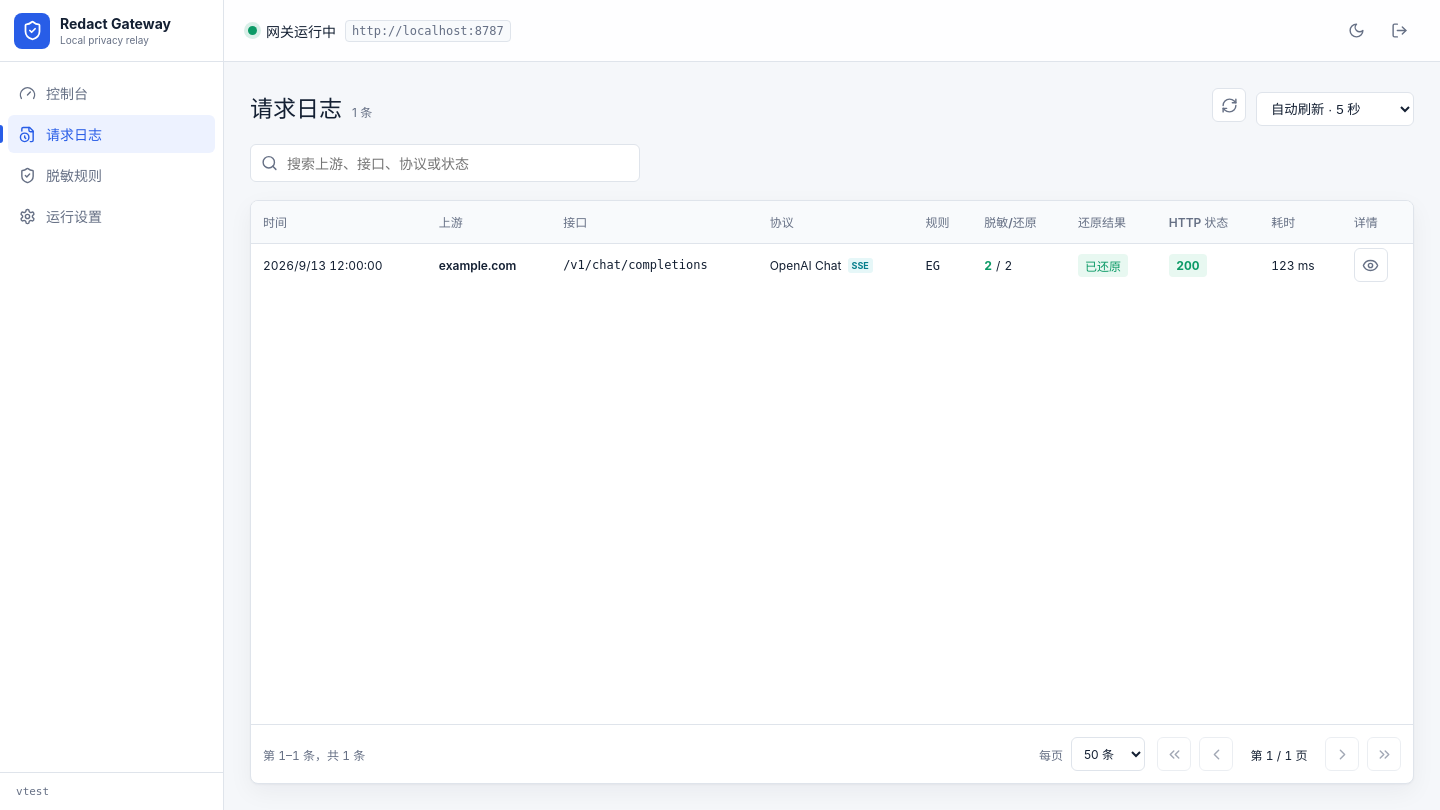
App › opens the selected request with actual rule hits and field paths
The image size is (1440, 810).
Click the button named "查看请求 request-one 的详情" at (1371, 265), box [1354,248,1388,282]
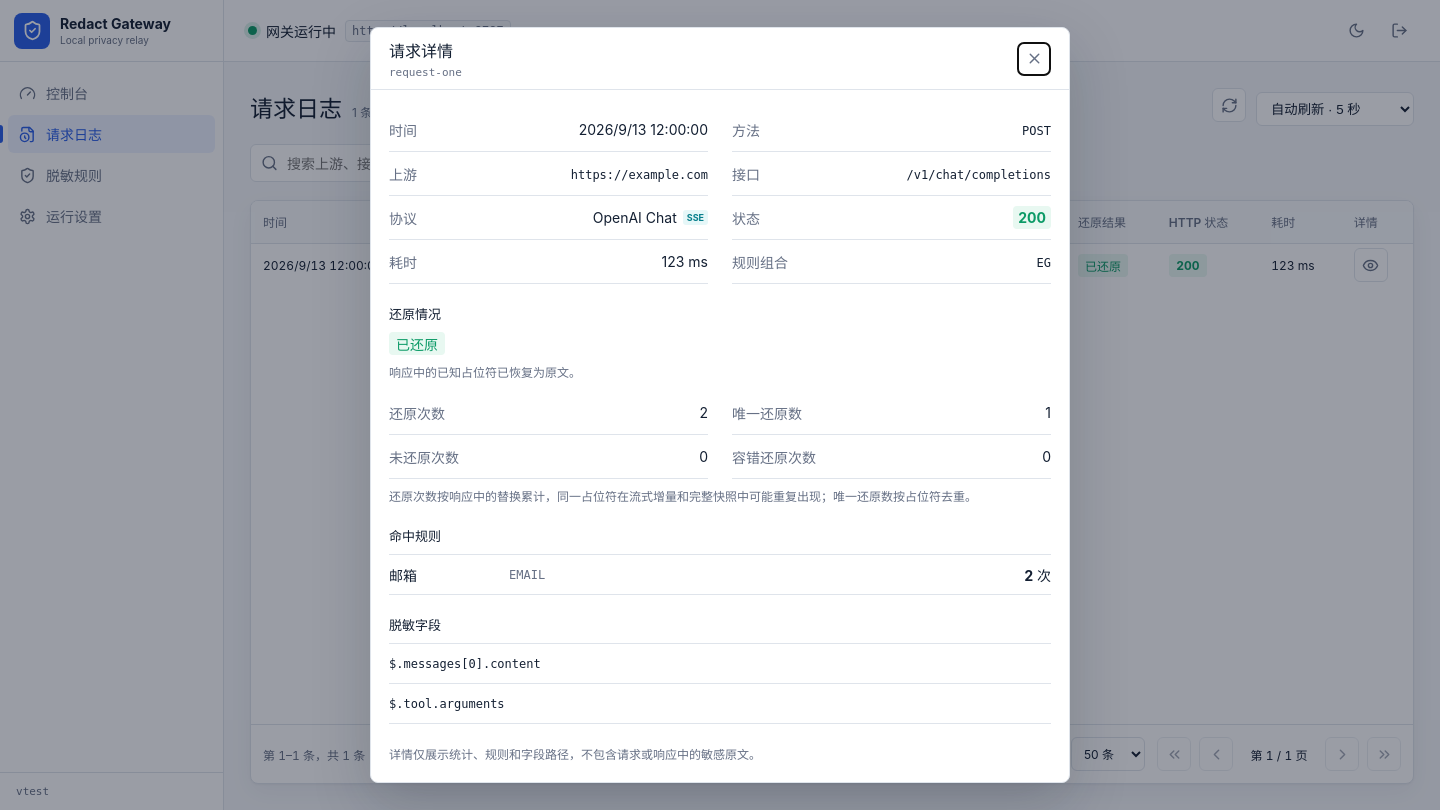
Result: the text "request-one" is shown at [389,66,462,79]
Result: the text "邮箱" is shown at [389,566,417,584]
Result: the text "EMAIL" is shown at [509,568,545,582]
